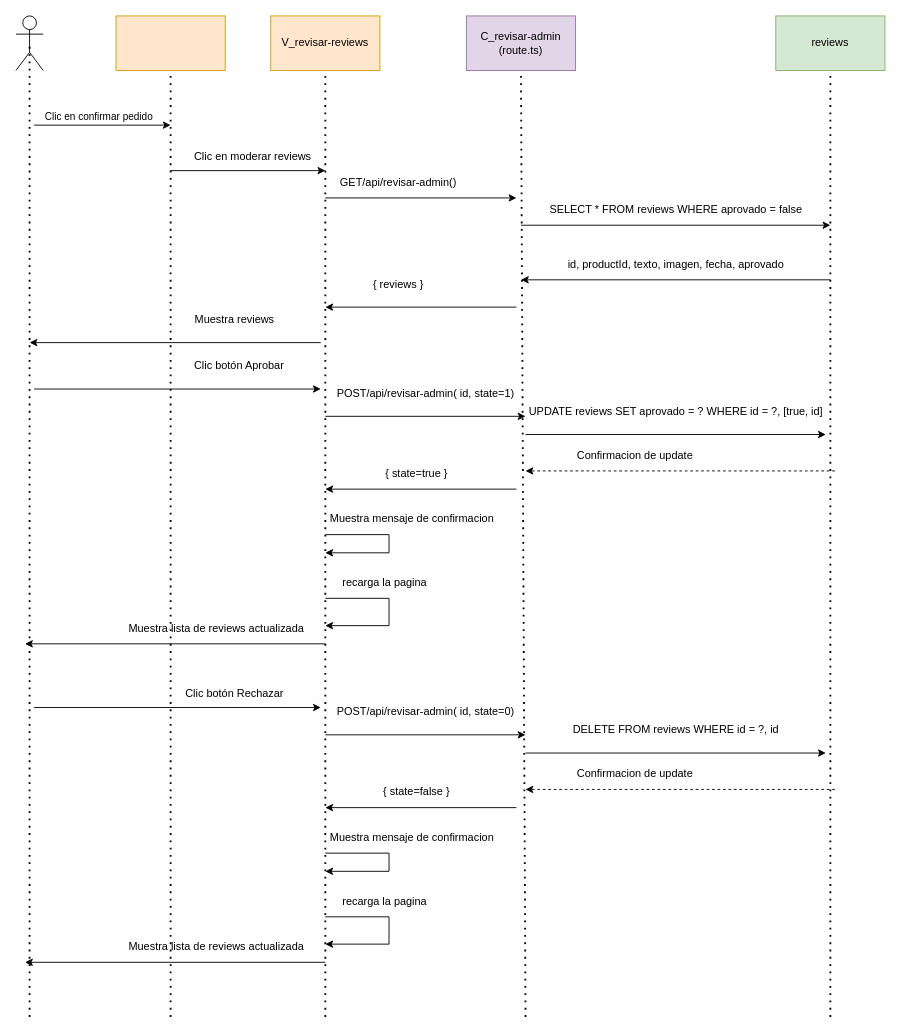
The diagram is 901 pixels wide and 1035 high, and some of its shapes have lost their labels. The centre of each missing label's shape, as x and y in pixels:
"Actor" goes at point (29, 43).
"V_pagina-admin" goes at point (170, 43).
